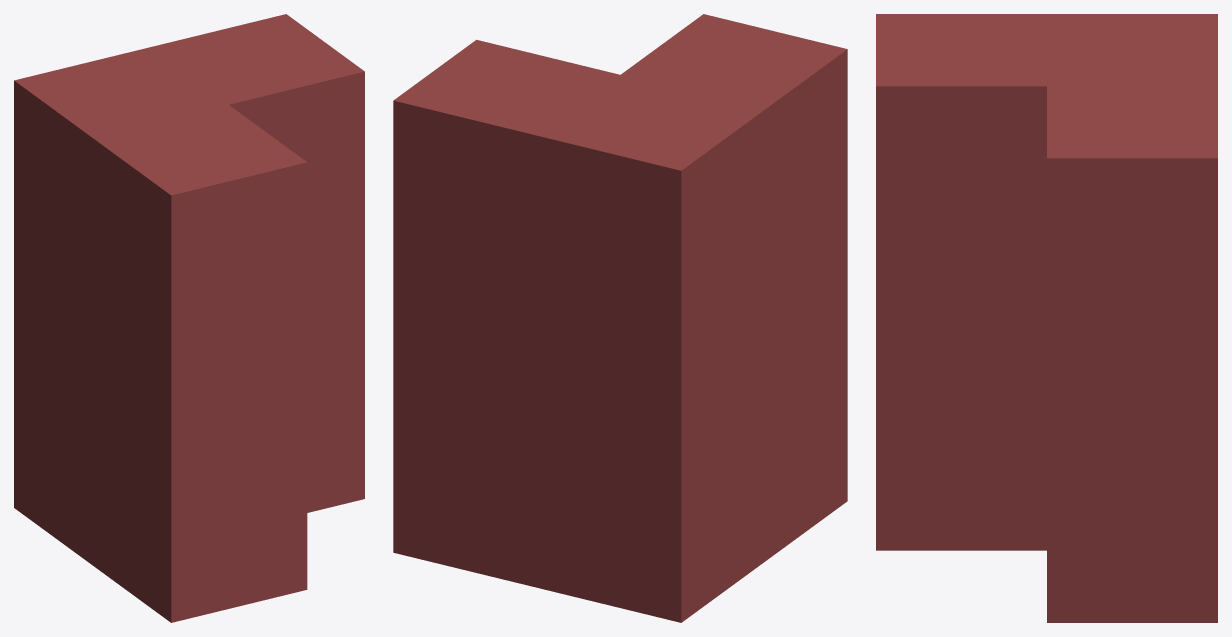
File: Corner 2x2.fbx
3 views of the same model, side by side, from view 1: azimuth 30°, elevation 25°; view 2: azimuth 150°, elevation 25°; view 3: azimuth 270°, elevation 25° (orthographic). The views are drawn at different scales.
Parts seen in each view (by area): view 1: Corner_2x2; view 2: Corner_2x2; view 3: Corner_2x2.
Boxes of the visible parts, x1=… form: Corner_2x2: x1=14, y1=14, x2=364, y2=622; Corner_2x2: x1=393, y1=14, x2=847, y2=622; Corner_2x2: x1=876, y1=14, x2=1217, y2=622.
Bounding box in the file's own units: 2 × 3 × 2.
